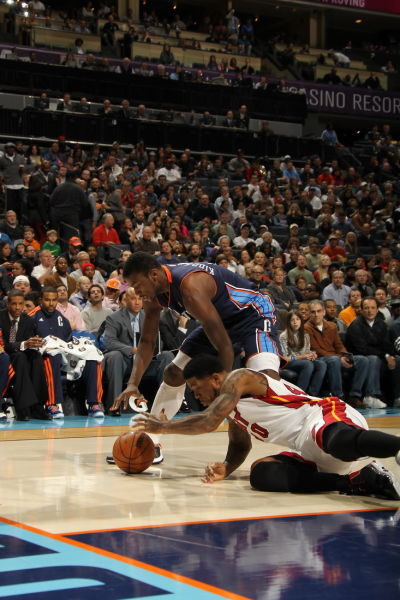10+: (4, 28, 400, 502)
down: (118, 355, 400, 510)
